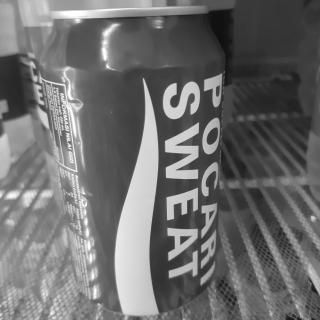alumunium_can: (29, 5, 249, 316)
